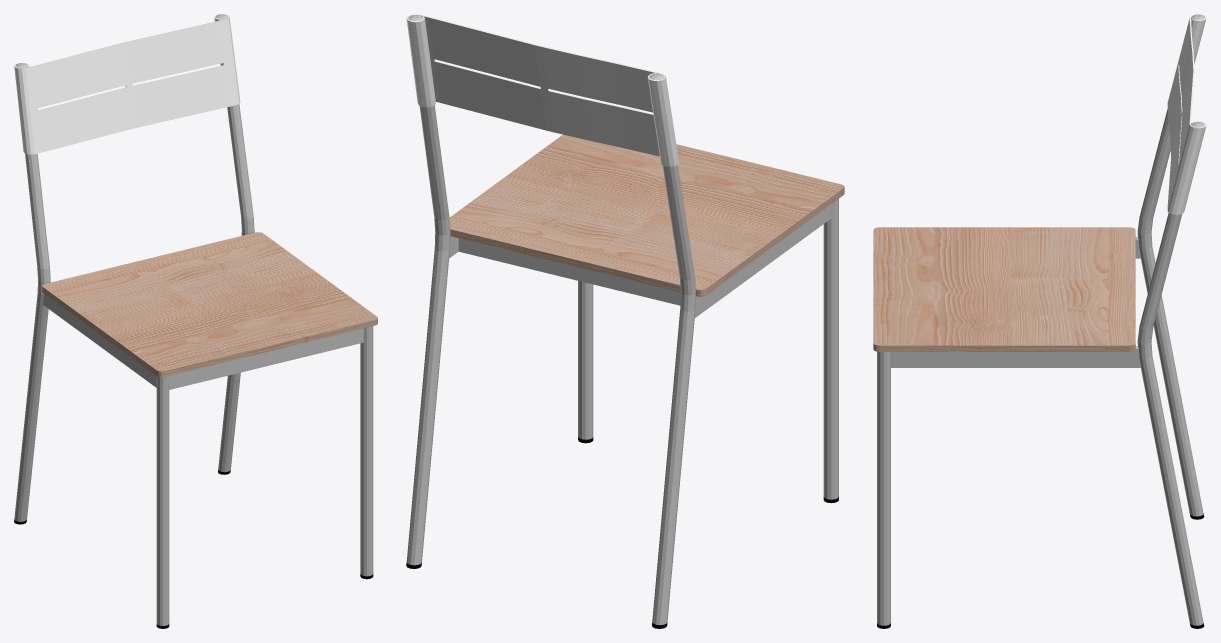
File: buslatt_glb.glb
3 renders of one model, left to right at view 1: azimuth 30°, elevation 25°; view 2: azimuth 150°, elevation 25°; view 3: azimuth 270°, elevation 25°, orthographic. The views are drawn at different scales.
Visible parts, largest first — view 1: Chair; view 2: Chair; view 3: Chair.
Boxes of the visible parts, bbox=[...] form: Chair: bbox=[14, 14, 377, 628]; Chair: bbox=[406, 14, 844, 628]; Chair: bbox=[873, 14, 1206, 628].
Bounding box in the file's own units: 0.4001 × 0.7919 × 0.4767.
Materials: 4 (4 with a texture image).
